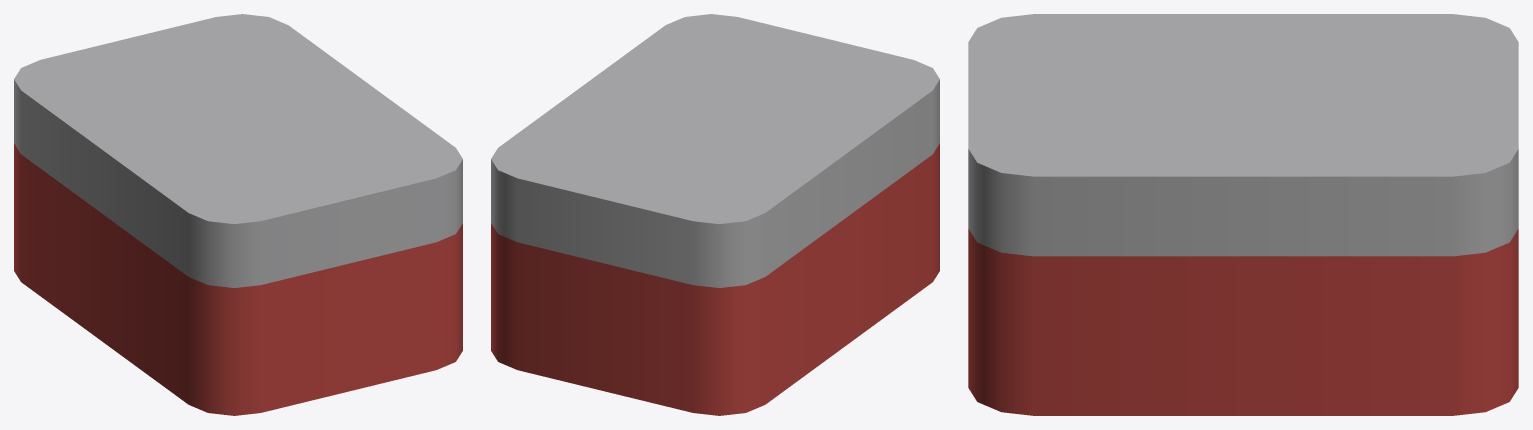
The model's file is carbon_race.glb.
The picture shows the model from 3 angles, left to right: view 1: azimuth 30°, elevation 25°; view 2: azimuth 150°, elevation 25°; view 3: azimuth 270°, elevation 25°; orthographic projection. The views are drawn at different scales.
Visible parts, largest first — view 1: lod0; view 2: lod0; view 3: lod0.
Boxes of the visible parts, <box> form: lod0: <box>14,14,462,415</box>; lod0: <box>491,14,939,415</box>; lod0: <box>968,14,1518,415</box>.
Size of what is drawn, in the model's own units: 0.035 by 0.024 by 0.05.
